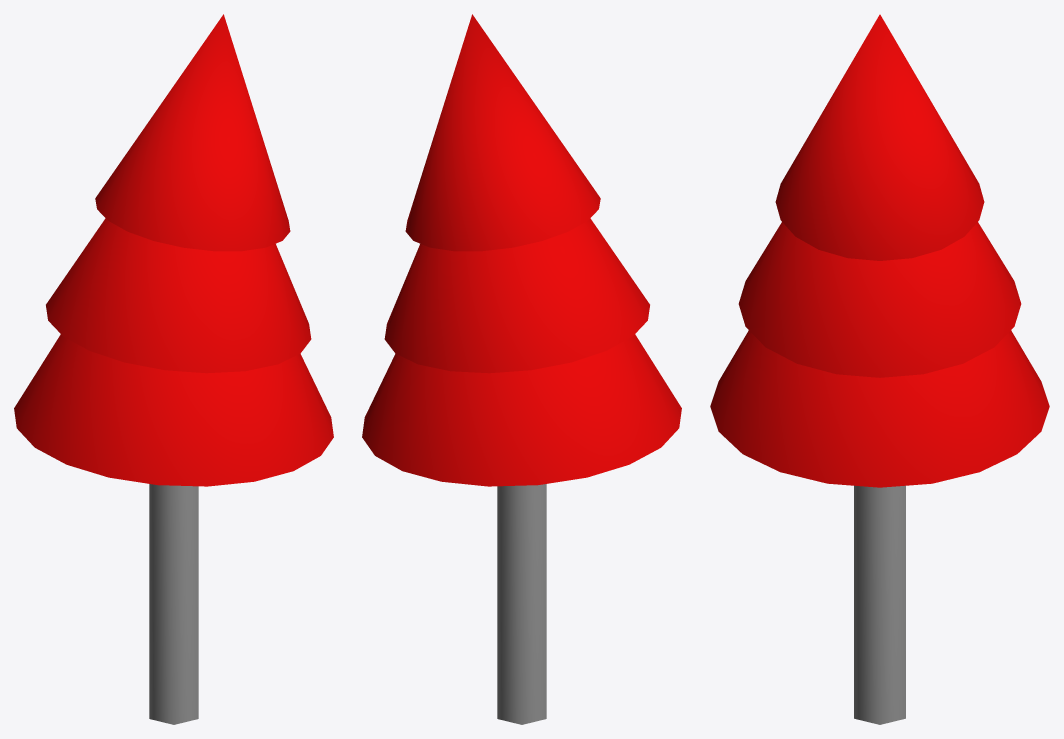
The model's file is SM_Tree.fbx.
3 renders of one model, left to right at view 1: azimuth 30°, elevation 25°; view 2: azimuth 150°, elevation 25°; view 3: azimuth 270°, elevation 25°, orthographic. The views are drawn at different scales.
Visible parts, largest first — view 1: SM_TreeTop01, SM_TreeTop02, SM_TreeTop03, SM_TreeTrunk; view 2: SM_TreeTop01, SM_TreeTop02, SM_TreeTop03, SM_TreeTrunk; view 3: SM_TreeTop01, SM_TreeTop02, SM_TreeTop03, SM_TreeTrunk.
Boxes of the visible parts, <box> form: SM_TreeTop01: <box>14,334,333,486</box>; SM_TreeTop02: <box>46,218,311,373</box>; SM_TreeTop03: <box>95,14,290,251</box>; SM_TreeTrunk: <box>149,484,198,724</box>; SM_TreeTop01: <box>362,334,681,486</box>; SM_TreeTop02: <box>384,218,649,373</box>; SM_TreeTop03: <box>405,14,600,251</box>; SM_TreeTrunk: <box>497,484,546,724</box>; SM_TreeTop01: <box>710,330,1049,487</box>; SM_TreeTop02: <box>738,222,1021,377</box>; SM_TreeTop03: <box>775,14,984,260</box>; SM_TreeTrunk: <box>854,485,905,724</box>.
Size of the model in its own units: 11.75 by 27.69 by 11.77.
